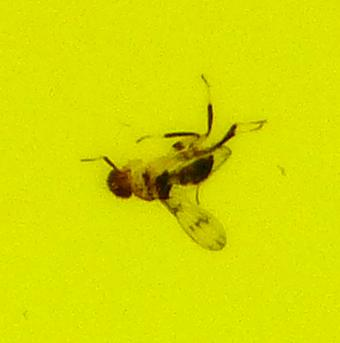Brachycera: (100, 100, 240, 243)
